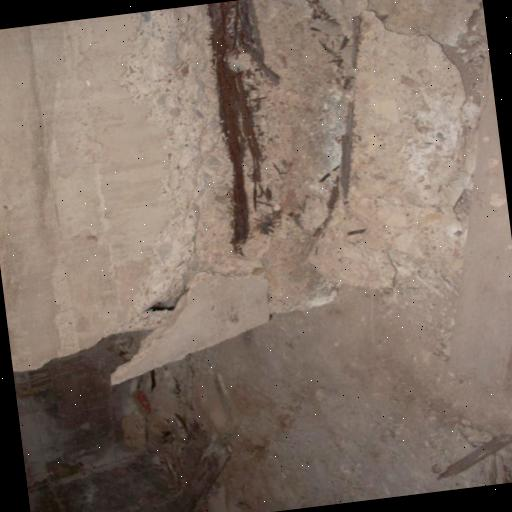spalling: (120, 0, 355, 324)
